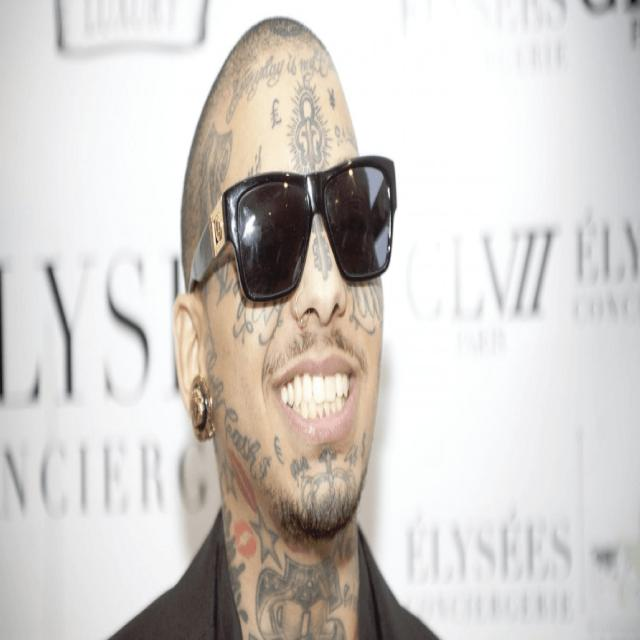human: (147, 21, 421, 640)
